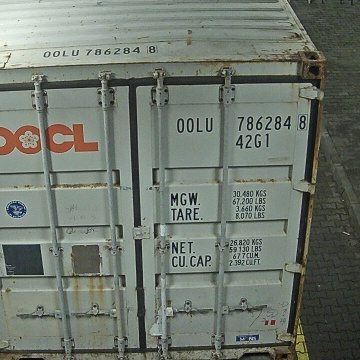serial_id: (176, 115, 306, 133)
